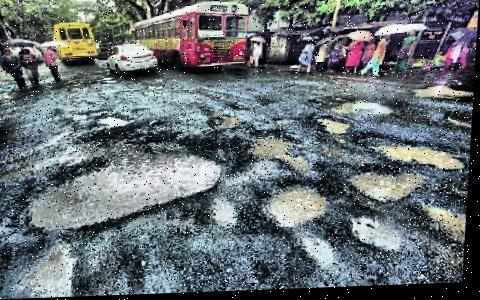pothole: (25, 146, 227, 232), (356, 131, 471, 177), (20, 237, 84, 298), (244, 131, 316, 177), (262, 183, 332, 228), (348, 168, 428, 207), (347, 214, 407, 259), (419, 204, 469, 245), (299, 231, 342, 273), (332, 97, 396, 120), (210, 196, 243, 230), (314, 114, 356, 140), (207, 109, 242, 131), (97, 115, 134, 128)
